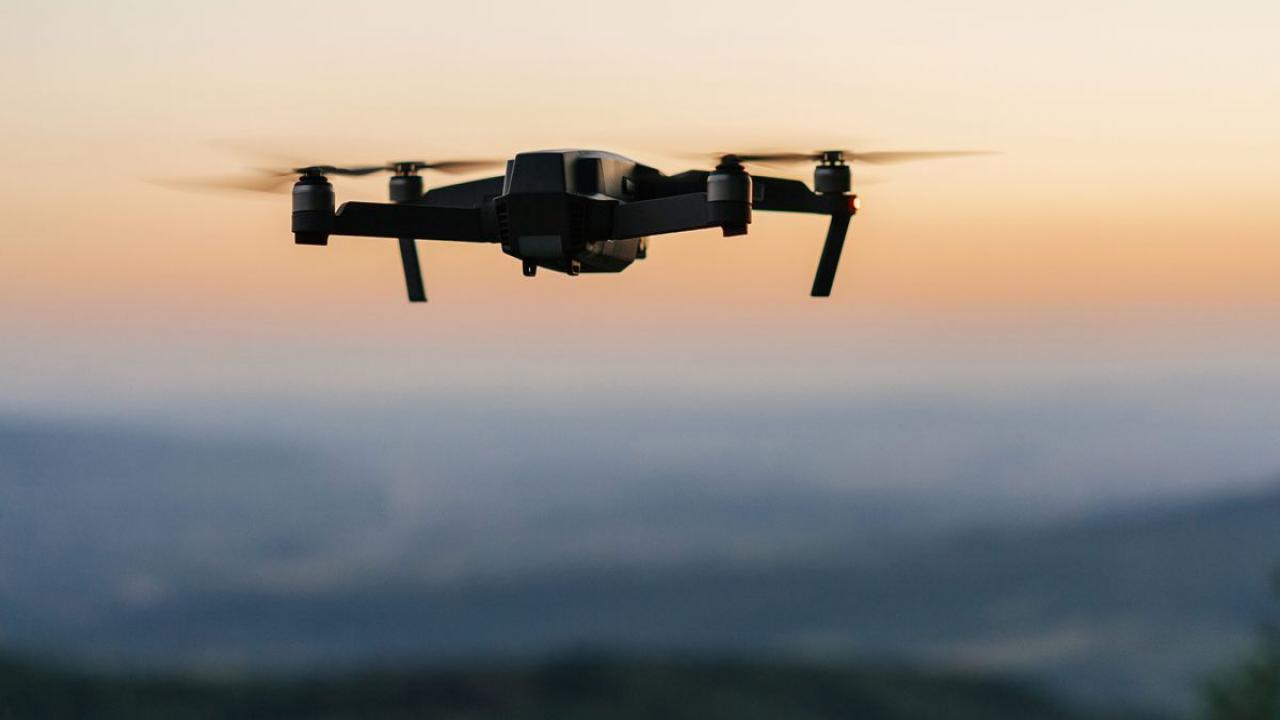Drone: (122, 105, 1022, 320)
